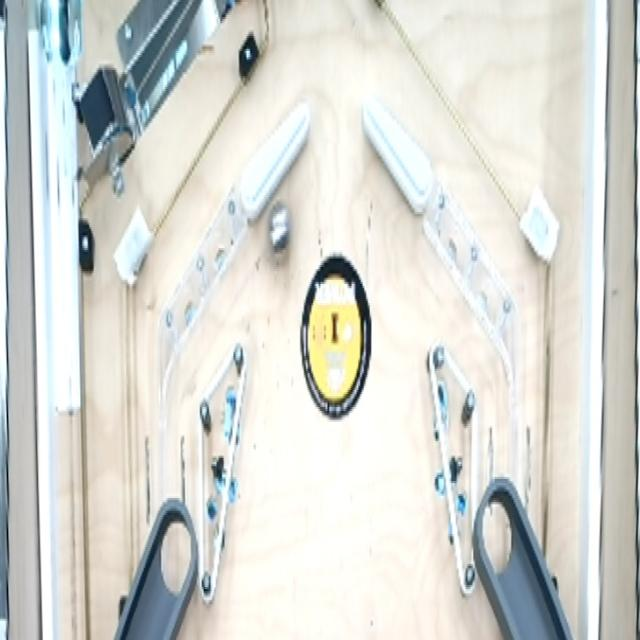ball: (265, 197, 295, 260)
flipper-left: (360, 88, 437, 215)
flipper-right: (235, 96, 313, 224)
